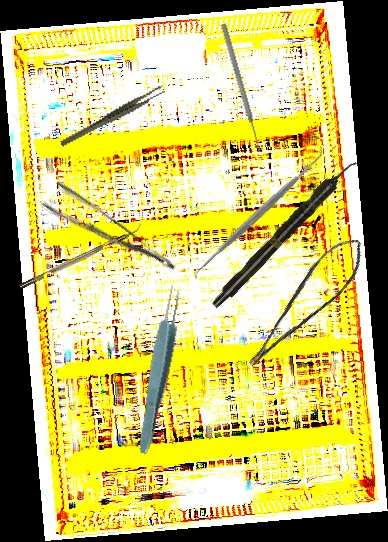Chopper: (15, 220, 145, 290)
Dressing Forceps: (39, 178, 179, 292)
Handpiece: (208, 155, 361, 312)
Micro Scissor: (227, 229, 378, 372)
Pusher: (219, 22, 264, 154)
Spatula Surgical: (185, 143, 333, 283)
Tissue Forceps: (132, 282, 188, 456), (53, 84, 172, 148)
